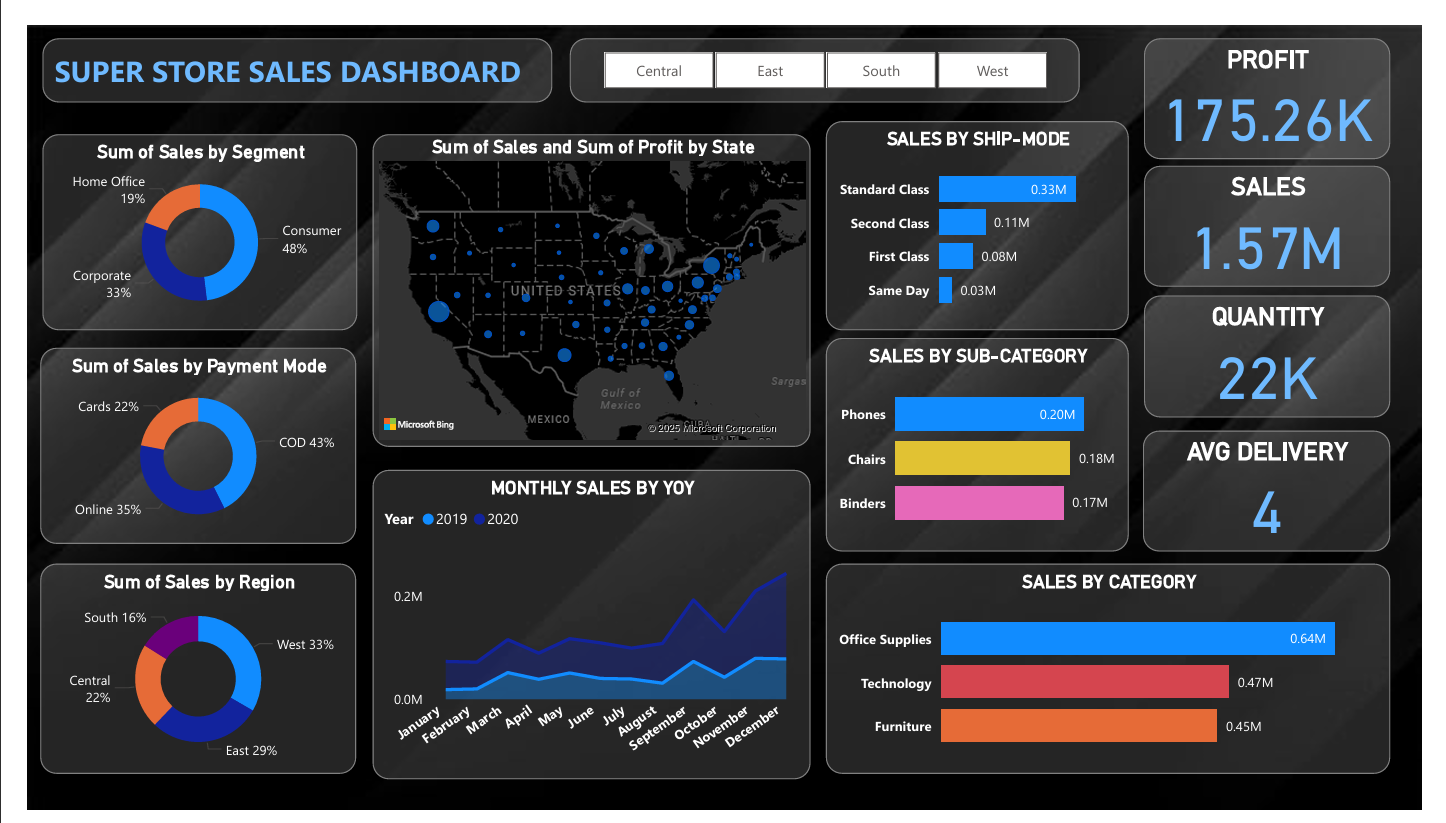

This screenshot's page, from the dashboard's own definition file:
{"tool":"powerbi","page":{"name":"Page 1","canvas":[1280,720],"ordinal":0},"visuals":[{"type":"clusteredBarChart","title":"SALES BY CATEGORY","fields":{"Category":["SuperStore_Sales_Dataset.Category"],"Y":["Sum(SuperStore_Sales_Dataset.Sales)"]},"box":[732.8,494,518.7,193.5],"z":0},{"type":"clusteredBarChart","title":"SALES BY SUB-CATEGORY","fields":{"Category":["SuperStore_Sales_Dataset.Sub-Category"],"Y":["Sum(SuperStore_Sales_Dataset.Sales)"]},"box":[732.8,286.8,278.6,196.2],"z":1000},{"type":"clusteredBarChart","title":"SALES BY SHIP-MODE","fields":{"Category":["SuperStore_Sales_Dataset.Ship Mode"],"Y":["Sum(SuperStore_Sales_Dataset.Sales)"]},"box":[732.8,87.8,278.6,192.1],"z":2000},{"type":"stackedAreaChart","title":"MONTHLY SALES BY YOY","fields":{"Y":["Sum(SuperStore_Sales_Dataset.Sales)"],"Category":["SuperStore_Sales_Dataset.Order Date.Variation.Date Hierarchy.Month","SuperStore_Sales_Dataset.Order Date.Variation.Date Hierarchy.Day"],"Series":["SuperStore_Sales_Dataset.Order Date.Variation.Date Hierarchy.Year"]},"box":[317,407.5,402.1,284],"z":3000},{"type":"map","fields":{"Category":["SuperStore_Sales_Dataset.State"],"Size":["Sum(SuperStore_Sales_Dataset.Sales)"]},"box":[317,100.2,402.1,286.8],"z":4000},{"type":"donutChart","fields":{"Category":["SuperStore_Sales_Dataset.Segment"],"Y":["Sum(SuperStore_Sales_Dataset.Sales)"]},"box":[13.7,100.2,289.5,179.8],"z":5000},{"type":"donutChart","fields":{"Category":["SuperStore_Sales_Dataset.Payment Mode"],"Y":["Sum(SuperStore_Sales_Dataset.Sales)"]},"box":[12.3,296.4,289.5,179.8],"z":6000},{"type":"donutChart","fields":{"Category":["SuperStore_Sales_Dataset.Region"],"Y":["Sum(SuperStore_Sales_Dataset.Sales)"]},"box":[12.3,494,289.5,193.5],"z":7000},{"type":"slicer","fields":{"Values":["SuperStore_Sales_Dataset.Region"]},"box":[498.1,12.3,467.9,59],"z":8000},{"type":"textbox","box":[13.7,12.3,467.9,59],"z":9000},{"type":"card","title":"SALES","fields":{"Values":["Sum(SuperStore_Sales_Dataset.Sales)"]},"box":[1025,129,226.4,111.1],"z":10000},{"type":"card","title":"QUANTITY","fields":{"Values":["Sum(SuperStore_Sales_Dataset.Quantity)"]},"box":[1025,248.4,226.4,111.1],"z":11000},{"type":"card","title":"PROFIT","fields":{"Values":["Sum(SuperStore_Sales_Dataset.Profit)"]},"box":[1025,12.3,226.4,111.1],"z":12000},{"type":"card","title":"AVG DELIVERY","fields":{"Values":["Avg(SuperStore_Sales_Dataset.AvgDelivery)"]},"box":[1023.7,371.9,227.8,111.1],"z":13000}]}

Visuals, with their boxes in screenshot pixels (x1, y1, x2, y2), scaled from the page's 1280x720 canvas onto the 1446x823 screenshot:
"SALES BY CATEGORY" clusteredBarChart: 828/565/1414/786
"SALES BY SUB-CATEGORY" clusteredBarChart: 828/328/1143/552
"SALES BY SHIP-MODE" clusteredBarChart: 828/100/1143/320
"MONTHLY SALES BY YOY" stackedAreaChart: 358/466/812/790
map - SuperStore_Sales_Dataset.State x Sum(SuperStore_Sales_Dataset.Sales): 358/115/812/442
donutChart - SuperStore_Sales_Dataset.Segment x Sum(SuperStore_Sales_Dataset.Sales): 15/115/343/320
donutChart - SuperStore_Sales_Dataset.Payment Mode x Sum(SuperStore_Sales_Dataset.Sales): 14/339/341/544
donutChart - SuperStore_Sales_Dataset.Region x Sum(SuperStore_Sales_Dataset.Sales): 14/565/341/786
slicer - SuperStore_Sales_Dataset.Region: 563/14/1091/81
textbox: 15/14/544/81
"SALES" card: 1158/147/1414/274
"QUANTITY" card: 1158/284/1414/411
"PROFIT" card: 1158/14/1414/141
"AVG DELIVERY" card: 1156/425/1414/552
